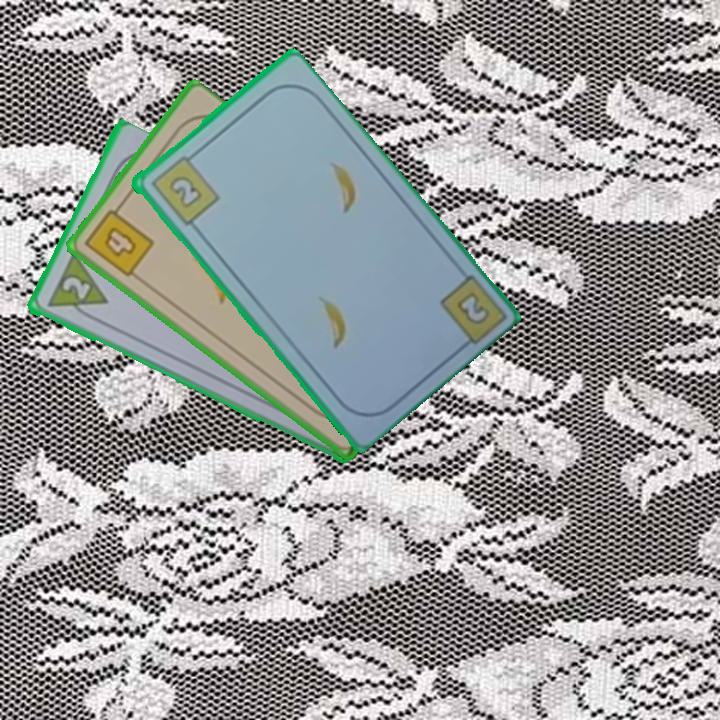2b: (146, 148, 222, 228), (452, 288, 493, 328)
2p: (57, 273, 93, 304)
4b: (80, 199, 157, 280)
